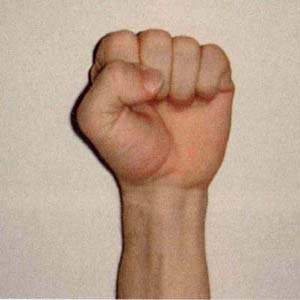fist: (71, 26, 240, 199)
